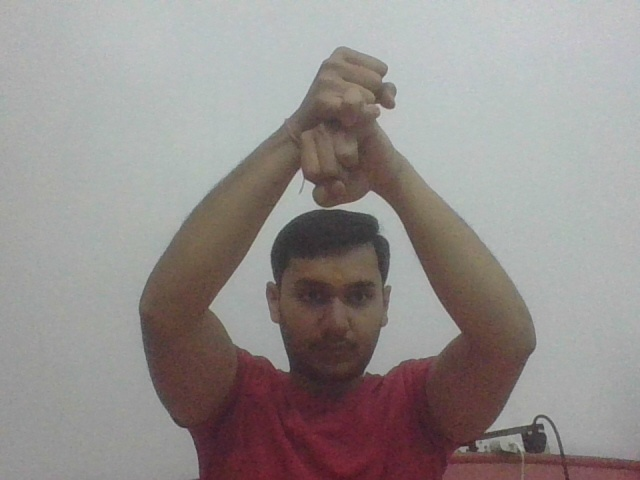S: (291, 43, 395, 205)
